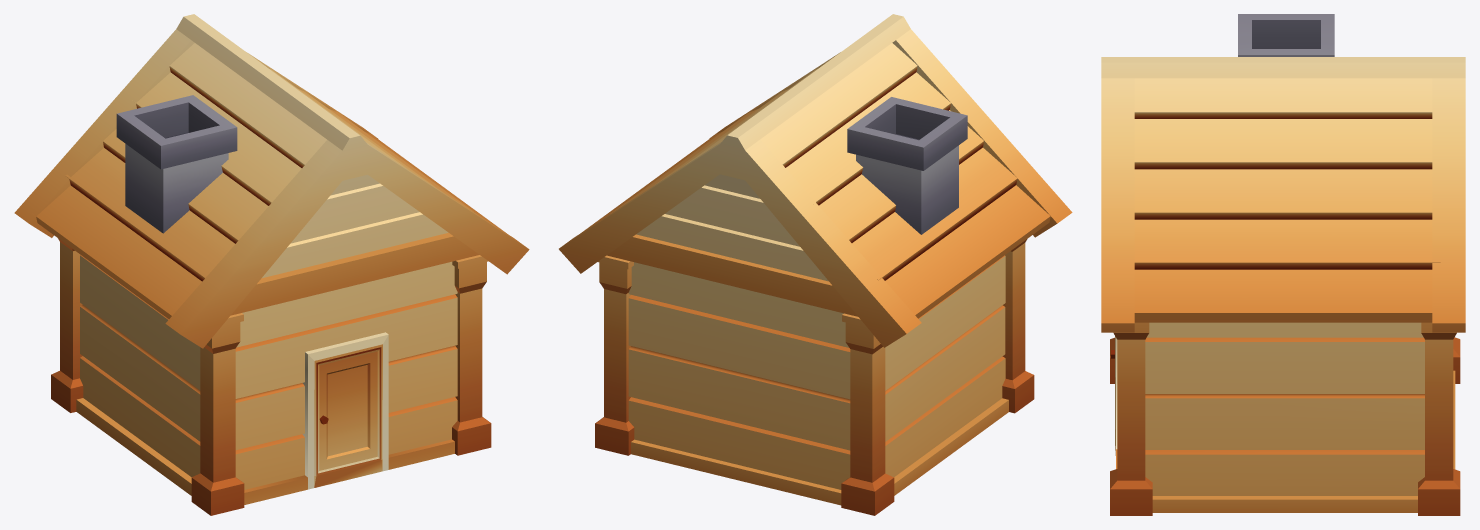
The model's file is SM_House.fbx.
The picture shows the model from 3 angles, left to right: view 1: azimuth 30°, elevation 25°; view 2: azimuth 150°, elevation 25°; view 3: azimuth 270°, elevation 25°; orthographic projection. The views are drawn at different scales.
Visible parts, largest first — view 1: SM_House; view 2: SM_House; view 3: SM_House.
Part boxes in pixels (<box>): SM_House: <box>14,14,529,515</box>; SM_House: <box>559,14,1072,515</box>; SM_House: <box>1101,14,1465,515</box>.
Bounding box in the file's own units: 8.76 × 8.34 × 7.23.
